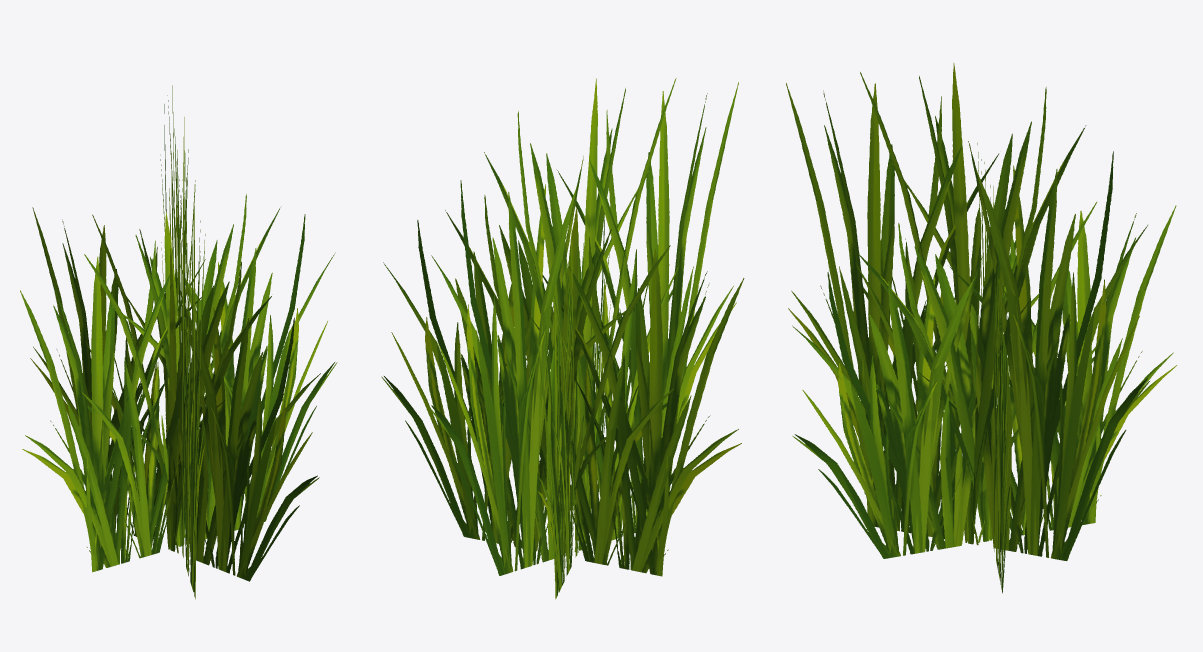
The model's file is grass.fbx.
3 renders of one model, left to right at view 1: azimuth 30°, elevation 25°; view 2: azimuth 150°, elevation 25°; view 3: azimuth 270°, elevation 25°, orthographic. The views are drawn at different scales.
Parts seen in each view (by area): view 1: grass; view 2: grass; view 3: grass.
Boxes of the visible parts, box(x1,y1,x2,y2) form: grass: box(20, 85, 337, 599); grass: box(381, 78, 744, 599); grass: box(786, 63, 1176, 593).
Size of the model in its own units: 83.14 by 107 by 79.88.
